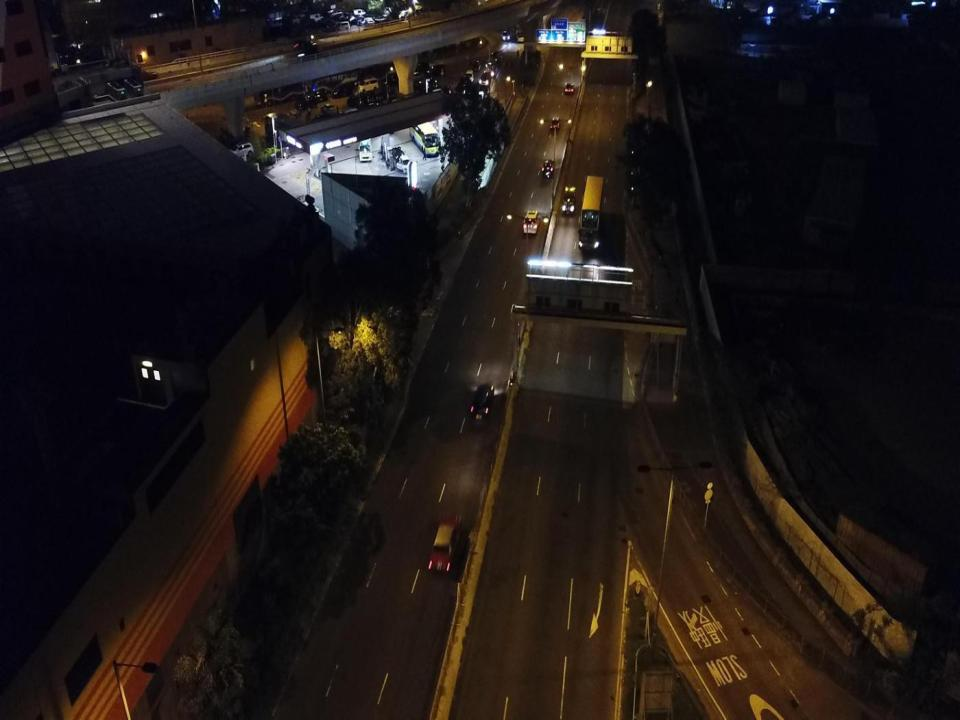bus: (576, 174, 604, 254), (409, 113, 440, 157), (486, 51, 499, 77), (517, 16, 525, 43)
car: (429, 512, 461, 574), (470, 380, 494, 421), (562, 185, 578, 216), (228, 142, 255, 157), (294, 39, 316, 51), (542, 158, 554, 179), (392, 146, 405, 161), (321, 103, 336, 115), (551, 115, 560, 132), (480, 72, 491, 85), (500, 29, 509, 42), (472, 58, 480, 72), (565, 82, 574, 93), (366, 19, 376, 27)
truck: (359, 123, 372, 162)
van: (523, 210, 540, 235), (295, 94, 317, 108), (396, 155, 412, 173), (358, 78, 379, 91), (332, 85, 352, 98), (308, 88, 328, 101), (411, 61, 429, 74), (388, 70, 404, 84), (426, 65, 445, 76), (334, 20, 350, 31), (292, 13, 305, 24), (309, 13, 324, 22), (335, 13, 350, 22), (352, 8, 366, 16), (465, 70, 474, 82), (359, 17, 372, 25), (269, 20, 282, 28), (331, 9, 342, 17)
